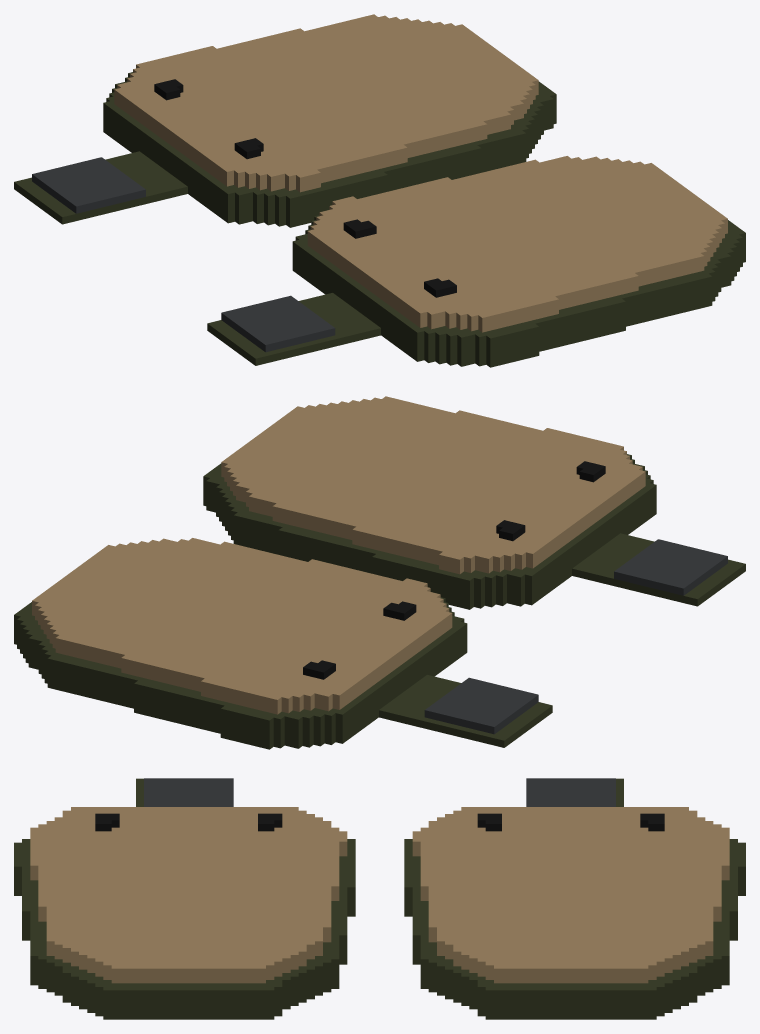
The model's file is iotv_shoulder_plate.glb.
3 renders of one model, top to bottom at view 1: azimuth 30°, elevation 25°; view 2: azimuth 150°, elevation 25°; view 3: azimuth 270°, elevation 25°, orthographic.
Visible parts, largest first — view 1: iotv_shoulder_plate:compound; view 2: iotv_shoulder_plate:compound; view 3: iotv_shoulder_plate:compound.
Part boxes in pixels (x1,y1,x2,y2): iotv_shoulder_plate:compound: (14,14,745,367); iotv_shoulder_plate:compound: (14,396,745,749); iotv_shoulder_plate:compound: (14,778,745,1019).
Bounding box in the file's own units: 0.272 × 0.028 × 0.36.
